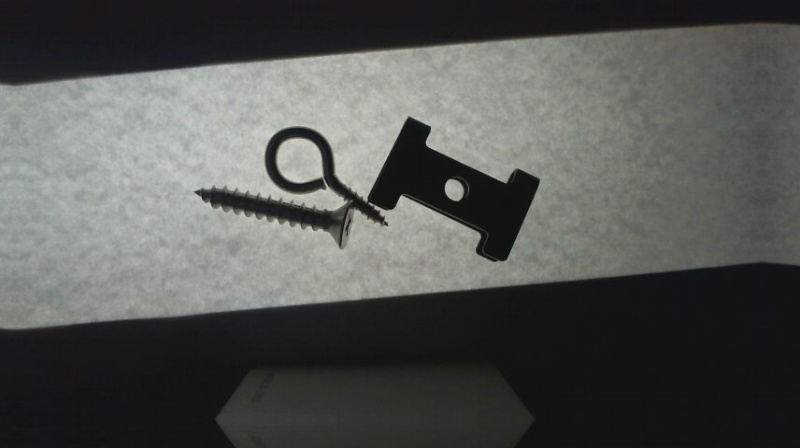O001: (262, 123, 389, 228)
O002: (367, 113, 541, 261)
S001: (190, 187, 356, 247)
